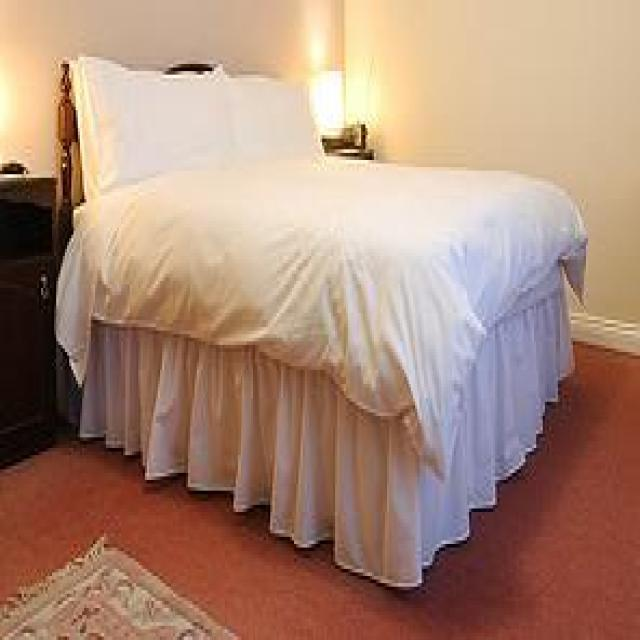bed: (52, 54, 588, 590)
